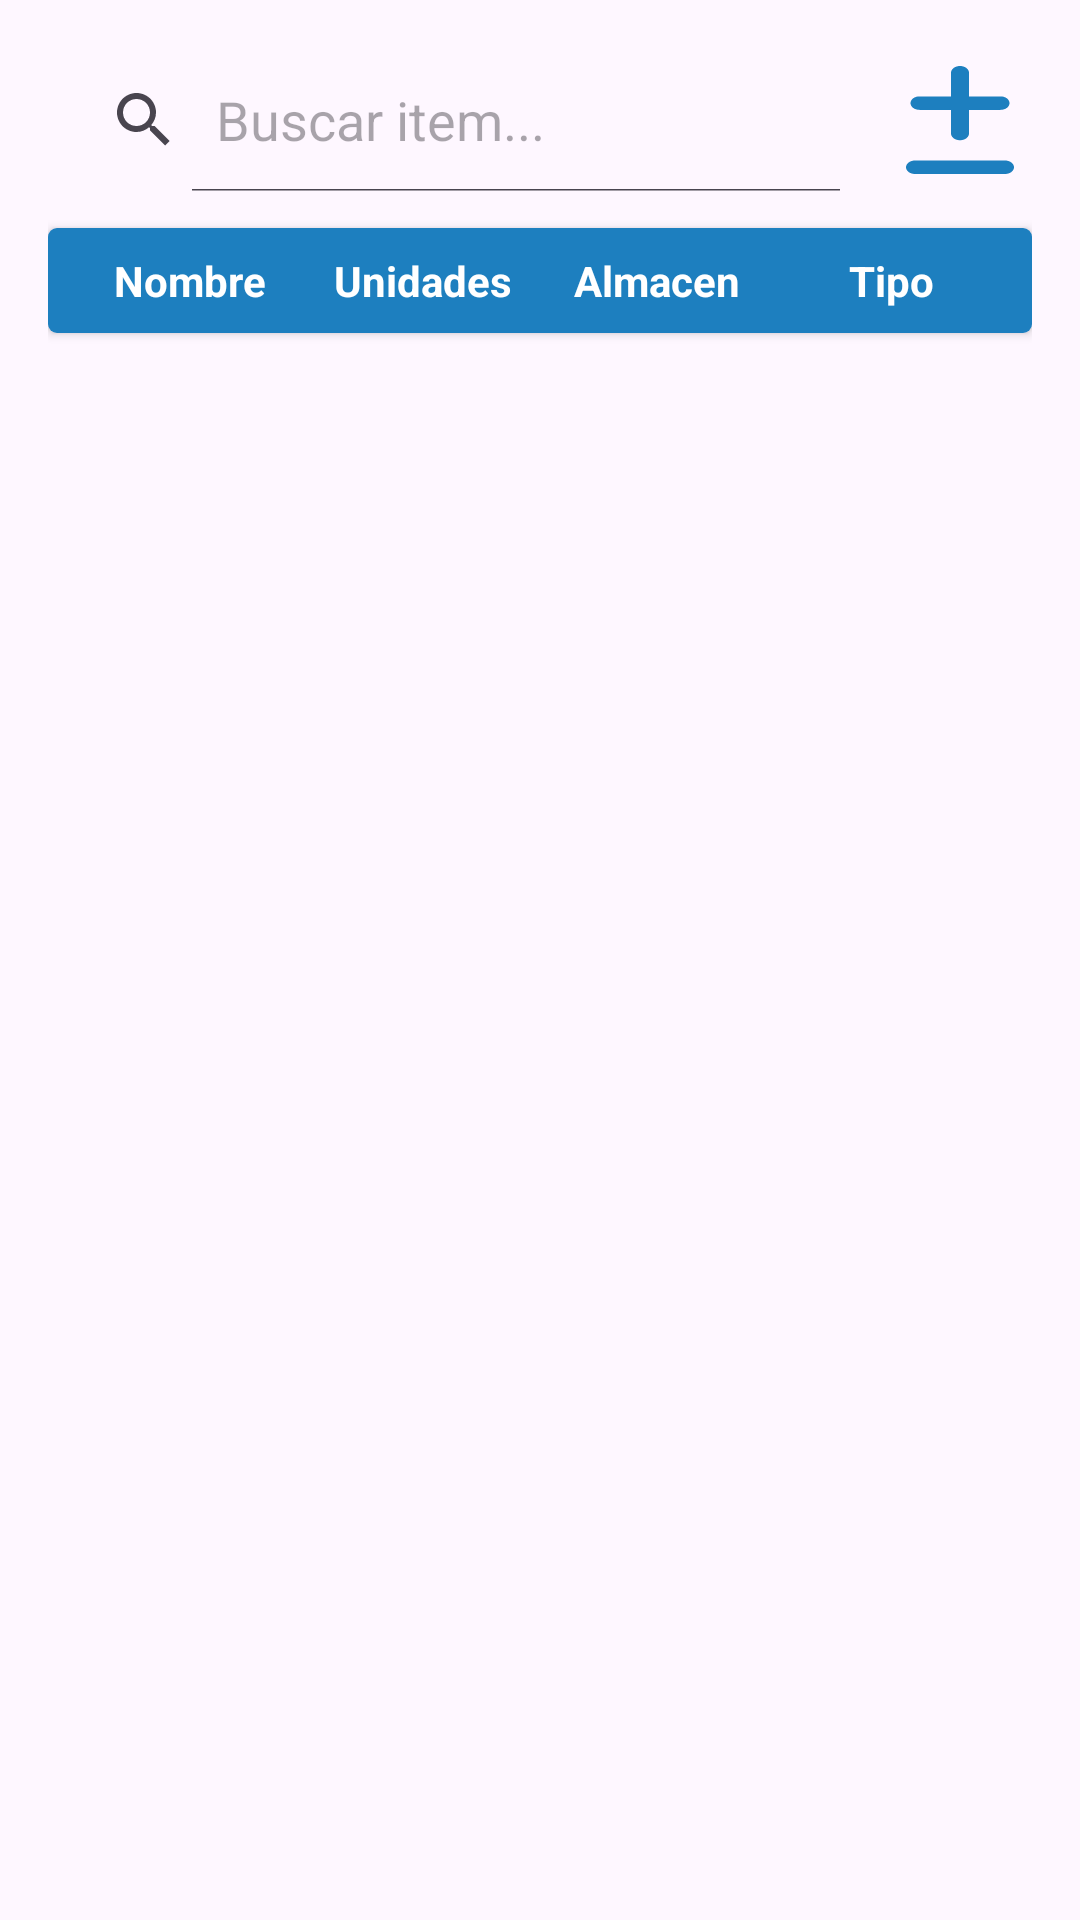

Screen size 1080w x 1920h. Icon name, then its center in pixels as point (x, y):
iconoplusminus: point (960, 120)
